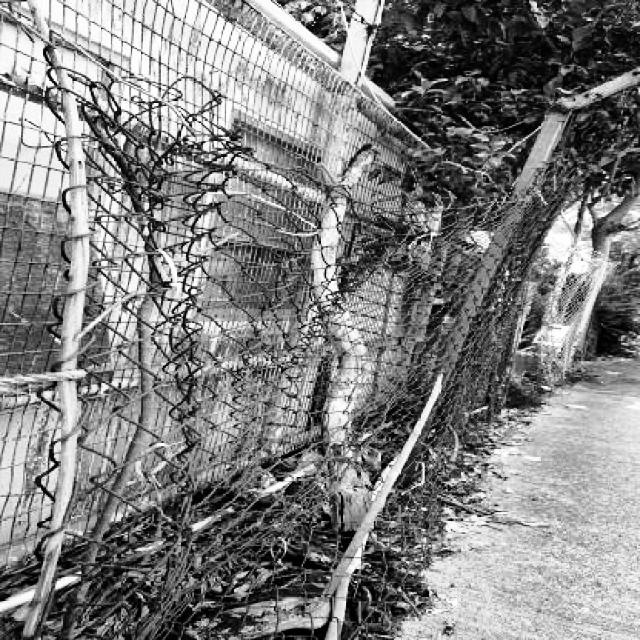anomaly-fence: (15, 29, 568, 612)
